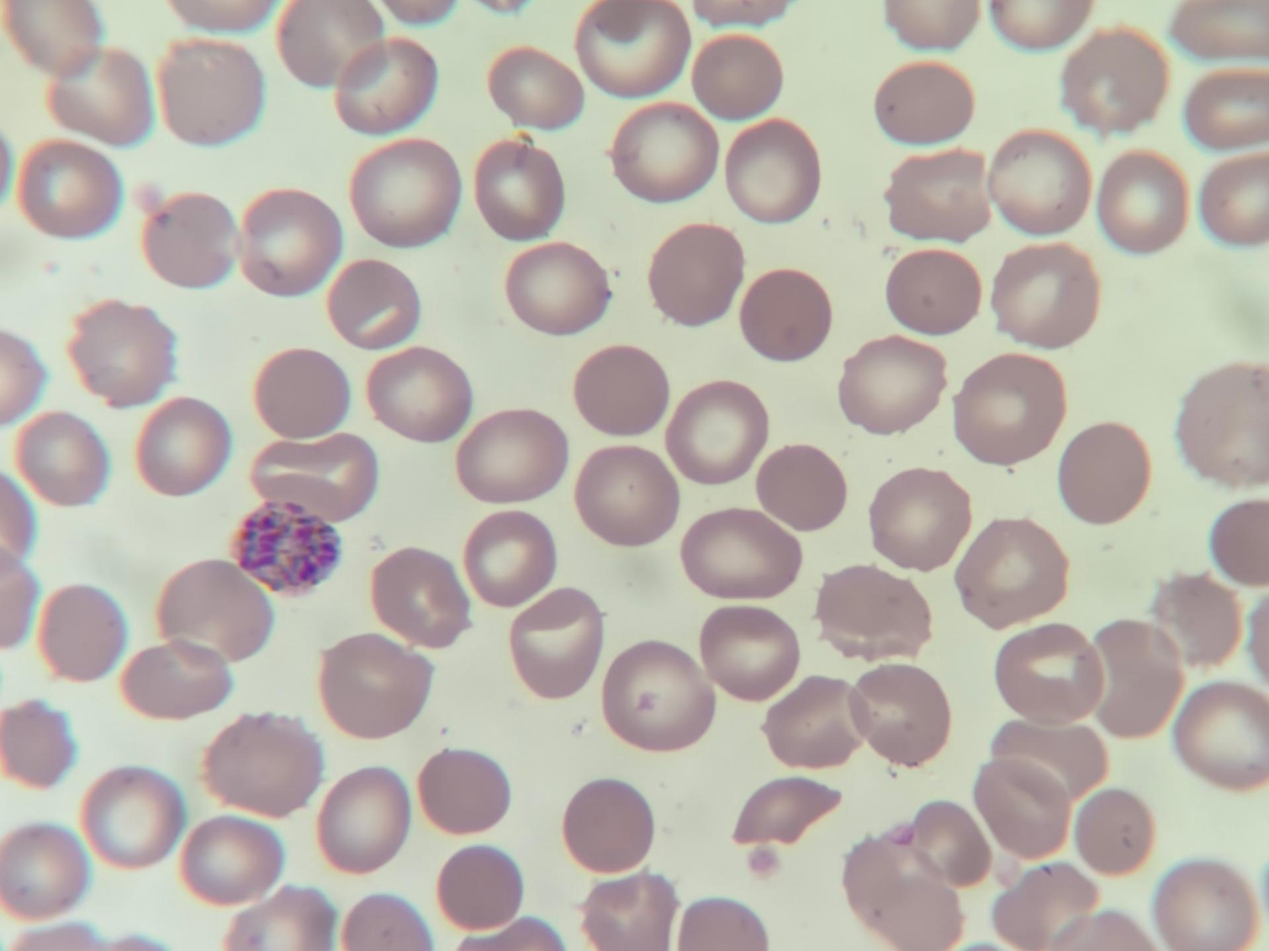Infected: (233, 499, 341, 595)
Uninfected: (841, 837, 964, 950), (198, 712, 321, 818), (955, 519, 1067, 627), (157, 559, 273, 663), (601, 642, 712, 750), (350, 139, 461, 246), (952, 356, 1063, 463), (993, 624, 1106, 728), (247, 434, 376, 525), (67, 299, 176, 406), (812, 564, 931, 660), (319, 635, 430, 737), (1061, 27, 1167, 133), (1177, 363, 1269, 485), (989, 243, 1095, 348), (237, 188, 341, 292), (574, 0, 688, 94), (974, 756, 1078, 859), (162, 40, 263, 146), (609, 102, 716, 202), (1091, 620, 1186, 732), (850, 663, 952, 767), (679, 508, 794, 600), (988, 130, 1090, 233), (370, 547, 474, 648), (1170, 682, 1269, 787), (837, 336, 944, 433), (19, 139, 123, 238), (81, 767, 184, 866), (276, 0, 389, 90), (455, 409, 564, 502), (664, 381, 765, 481), (50, 48, 152, 147), (868, 467, 970, 566), (366, 346, 473, 440), (334, 38, 438, 134), (574, 447, 678, 543), (508, 590, 603, 695), (647, 224, 744, 326), (724, 118, 819, 221), (993, 719, 1104, 807), (884, 149, 989, 241), (316, 770, 410, 872), (141, 191, 239, 288), (135, 397, 231, 496), (698, 605, 798, 700), (761, 676, 861, 769), (1096, 149, 1187, 251), (990, 862, 1096, 949), (505, 244, 607, 334), (1151, 861, 1256, 948), (463, 511, 560, 605), (254, 348, 352, 441), (573, 344, 671, 437), (1059, 424, 1151, 523), (178, 815, 280, 904), (327, 258, 425, 350), (475, 139, 567, 237), (37, 583, 128, 682), (884, 248, 983, 338), (121, 638, 231, 719), (562, 779, 655, 874), (416, 746, 512, 838), (873, 59, 974, 145), (15, 411, 107, 505), (1151, 570, 1243, 664), (738, 269, 831, 361), (0, 823, 89, 918), (755, 445, 846, 533), (731, 777, 839, 851), (691, 34, 783, 120), (489, 47, 584, 130), (435, 846, 525, 932), (0, 0, 99, 78), (578, 872, 675, 951), (905, 800, 990, 888), (1073, 788, 1154, 877), (1184, 68, 1269, 151), (1198, 148, 1269, 247), (223, 886, 329, 951), (1, 698, 75, 787), (1171, 0, 1267, 61), (1209, 500, 1269, 588), (340, 892, 432, 948), (676, 899, 765, 950)
